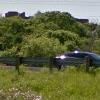Tree: (0, 6, 76, 51)
